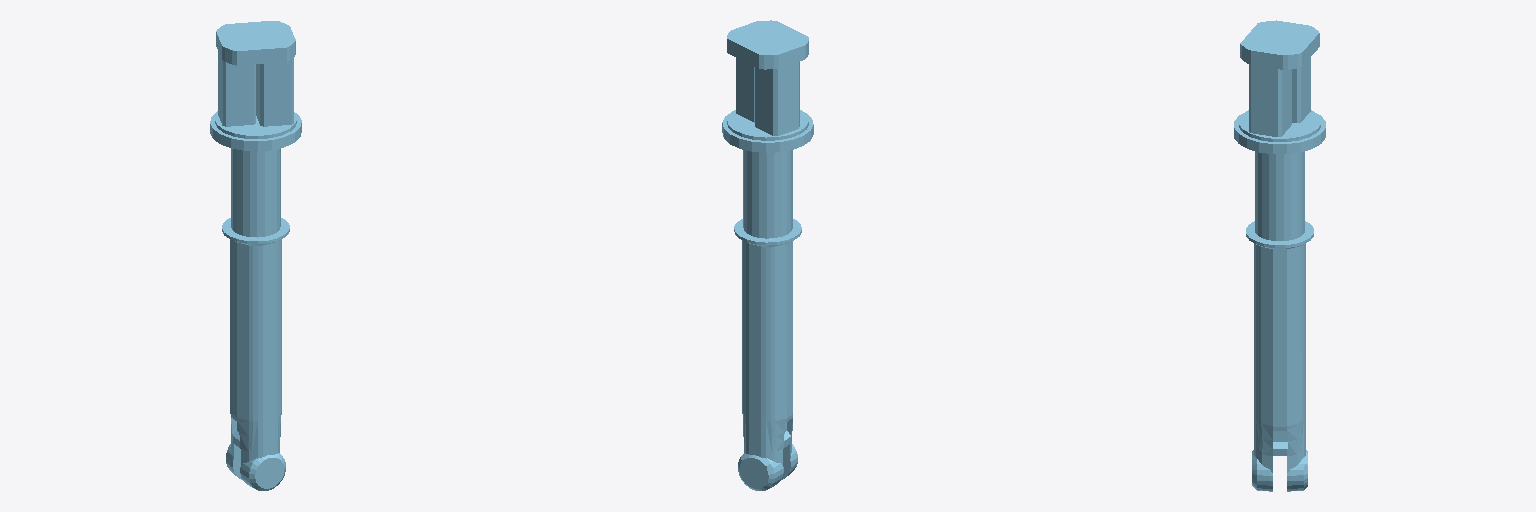
The robot description file, URDF, robot "roboto_visual":
<?xml version="1.0"?>

<!--FIX LIMIT AND THE NOMENCLATURE: JOINTS AND LINK NUMBER IS OFF-->
<!--FIX THE MODEL DIMENSION: FOR LINK BASE AND LINK1-->
<!--ADD INERTIA FOR ALL LINKS-->
<!--REVISE DH PARAMETERS-->
<!-- REDO LINKS 6 and 7 -->
<!--  -->
<!--USE XARCO AND TRANSFER TO SRDF FOR GAZEBO-->
<robot name="roboto_visual">
	<material name="orange">
		<color rgba="0.756 0.3608 0.0392 1"/>
	</material>

	<material name="silver">
		<color rgba="0.6157 0.8392 0.9411 1"/>
	</material>

	<link name="world"/>

	<link name="base">
		<visual>
			<geometry>
				<mesh filename="package://urdf_models/meshes/base.STL"/>
			</geometry>
			<origin xyz="0 0 0" rpy="0 0 0"/>
			<material name="orange"/>
		</visual>
	</link>

	<link name="link1">
		<visual>
			<geometry>
				<mesh filename="package://urdf_models/meshes/link1.STL"/>
			</geometry>
			<origin xyz="0 0 0" rpy="0 0 0"/>
			<material name="orange"/>
		</visual>
	</link>

	<joint name="world_to_base" type="fixed">
		<parent link="world"/>
		<child link="base"/>
		<origin xyz="0 0 0"/>
	</joint>

	<joint name="joint1" type="revolute">
		<axis xyz="0 0 1"/>
		<limit effort="1.0" lower="-1.4835" upper="1.4835" velocity="5.0"/>
		<origin rpy="0 0 0" xyz="0 0 0.118"/>
		<parent link="base"/>
		<child link="link1"/>
	</joint>
	
	<link name="link2">
		<visual>
			<geometry>
				<mesh filename="package://urdf_models/meshes/link2.STL"/>
			</geometry>
			<origin xyz="0 0 0" rpy="0 0 0"/>
			<material name="orange"/>
		</visual>
	</link>
	
	<joint name="joint2" type="revolute">
		<axis xyz="0 0 1"/>
		<limit effort="1.0" lower="-2.7925" upper="0" velocity="5.0"/>
		<!--LIMITS AND ORIGIN NEED CORRECTION -->
		<origin rpy="-1.5707 0 0" xyz="0.15 0 0.345"/>
		<parent link="link1"/>
		<child link="link2"/>
	</joint>

	<link name="link3">
		<visual>
			<geometry>
				<mesh filename="package://urdf_models/meshes/link3.STL"/>
			</geometry>
			<origin xyz="0 0 0" rpy="0 0 1.5707"/>
			<material name="orange"/>
		</visual>
	</link>

	<joint name="joint3" type="revolute">
		<axis xyz="0 0 1"/>
		<!-- LIMITS AND ORIGIN NEED CORRECTION -->
		<limit effort="1.0" lower="-1.5708" upper="1.5708" velocity="5.0"/>
		<origin rpy="0 0 0" xyz="0.6 0 0"/>
		<parent link="link2"/>
		<child link="link3"/>
	</joint>

	<link name="link4">
		<visual>
			<geometry>
				<mesh filename="package://urdf_models/meshes/link4_2nd.STL"/>
			</geometry>
			<origin xyz="0 0 0" rpy="1.5708 0 0"/>
			<material name="silver"/>
		</visual>
	</link>
	<joint name="joint4" type="revolute">
		<axis xyz="0 0 1"/>
		<limit effort="1.0" lower="0" upper="3.142" velocity="5.0"/>
		<origin rpy="-1.5707 0 0" xyz="0.12 0 0"/>
		<parent link="link3"/>
		<child link="link4"/>
	</joint>
	
	<link name="link5">
		<visual>
			<geometry>
				<mesh filename="package://urdf_models/meshes/link5.STL"/>
			</geometry>
			<origin xyz="0 0 0" rpy="0 0 -1.5708"/>
			<material name="orange"/>
		</visual>
	</link>
	<joint name="joint5" type="revolute">
		<axis xyz="0 0 1"/>
		<limit effort="1.0" lower="0" upper="3.142" velocity="5.0"/>
		<origin rpy="1.5708 0 0" xyz="0 0 0.72"/>
		<parent link="link4"/>
		<child link="link5"/>
	</joint>
	
	<link name="link6">
		<visual>
			<geometry>
				<mesh filename="package://urdf_models/meshes/link6.STL"/>
			</geometry>
			<origin xyz="0 0 0" rpy="0 0 0"/>
			<material name="silver"/>
		</visual>
	</link>
	<!--LINK6 IS A DUMMY LINK TO RECONCILE THE LAST JOINT WITH THE END EFFECTOR-->
	<joint name="joint6" type="revolute">
		<axis xyz="0 0 1"/>
		<limit effort="1.0" lower="0" upper="3.142" velocity="5.0"/>
		<origin rpy="-1.5708 0 0" xyz="0 0 0"/>
		<parent link="link5"/>
		<child link="link6"/>
	</joint>
	
	<link name="link7">
		<!--visual>
			<geometry>
				<mesh filename="package://urdf_models/meshes/link6.STL"/>
			</geometry>
			<origin xyz="0 0 0" rpy="0 0 0"/>
			<material name="silver"/>
		</visual-->
	</link>
	<joint name="joint7" type="fixed">
		<!--axis xyz="0 0 1"/>
		<limit effort="1.0" lower="0" upper="3.142" velocity="5.0"/-->
		<origin rpy="0 0 0" xyz="0 0 0.085"/>
		<parent link="link6"/>
		<child link="link7"/>
	</joint>


</robot>

--- Render facts (derived) ---
3 views of the same robot in one strip: view 1: azimuth 30°, elevation 25°; view 2: azimuth 150°, elevation 25°; view 3: azimuth 270°, elevation 25° (orthographic).
Model roboto_visual with 9 links and 8 joints (6 revolute, 2 fixed), rooted at world, posed all joints at 0.
Links seen in each view (by area): view 1: link4; view 2: link4; view 3: link4.
Boxes of the visible links, x1=… form: link4: x1=210, y1=21, x2=301, y2=490; link4: x1=722, y1=20, x2=813, y2=490; link4: x1=1234, y1=20, x2=1325, y2=491.
Bounding box of the posed robot: 0.195 × 0.195 × 1.06 m (x, y, z).
Meshes: 7 distinct files referenced, 1 mesh visuals loaded (1 binary STL); not drawn: 6 (reference not matched to a file when rendering).